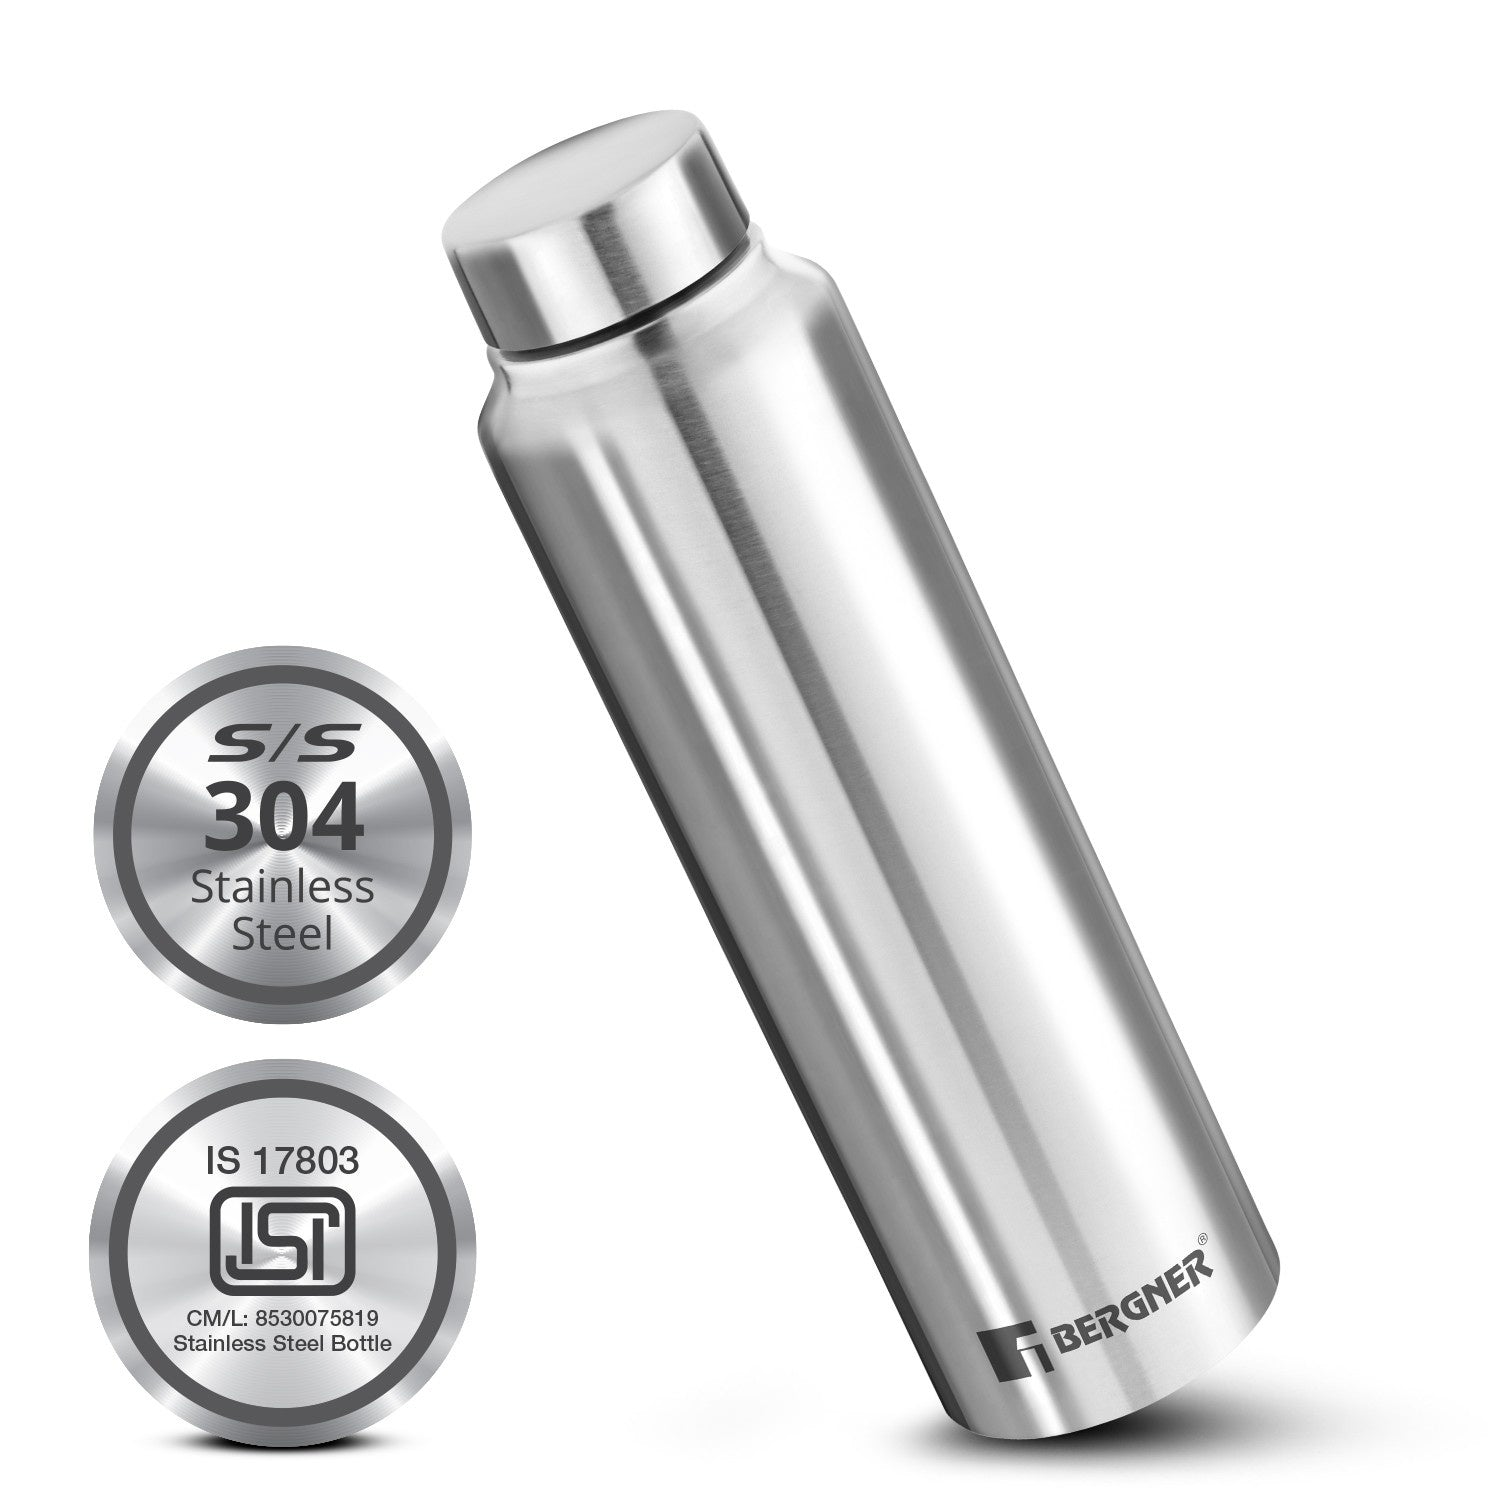bottle: (407, 163, 1360, 1448)
